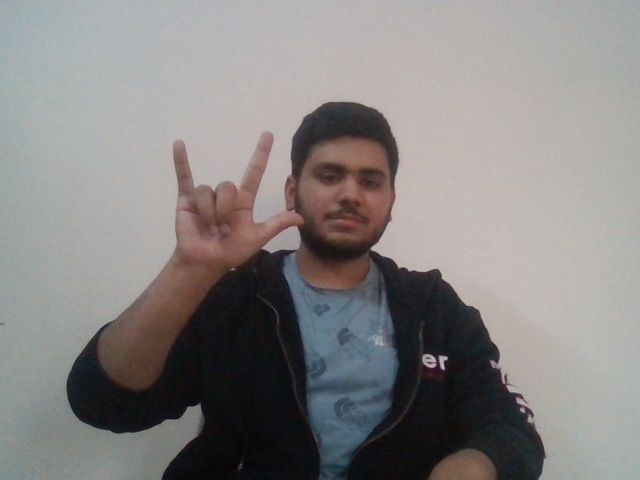IloveYou: (160, 132, 300, 247)
